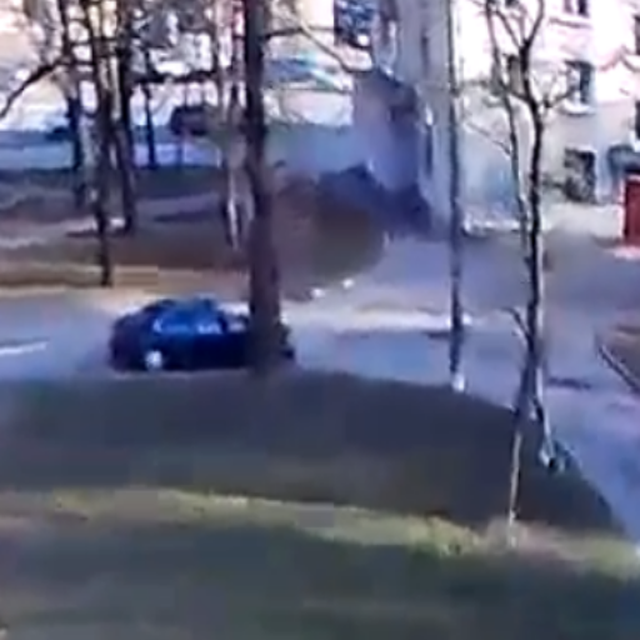car: (113, 299, 293, 373)
